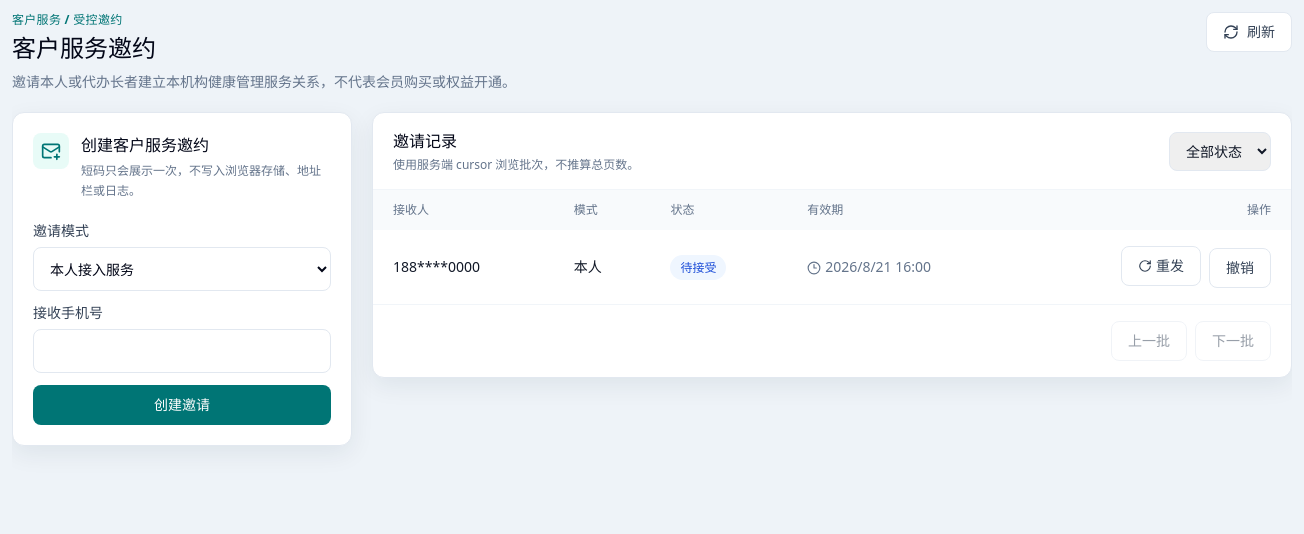
Test: 机构客户服务邀约与服务接入 › 撤销发生 409 时只刷新且不自动重放 mutation
Expected: the text "188****0000" is shown, [373,230,554,304]
Click the button "撤销". click: point(1240, 268)
box: [1209,248,1271,288]
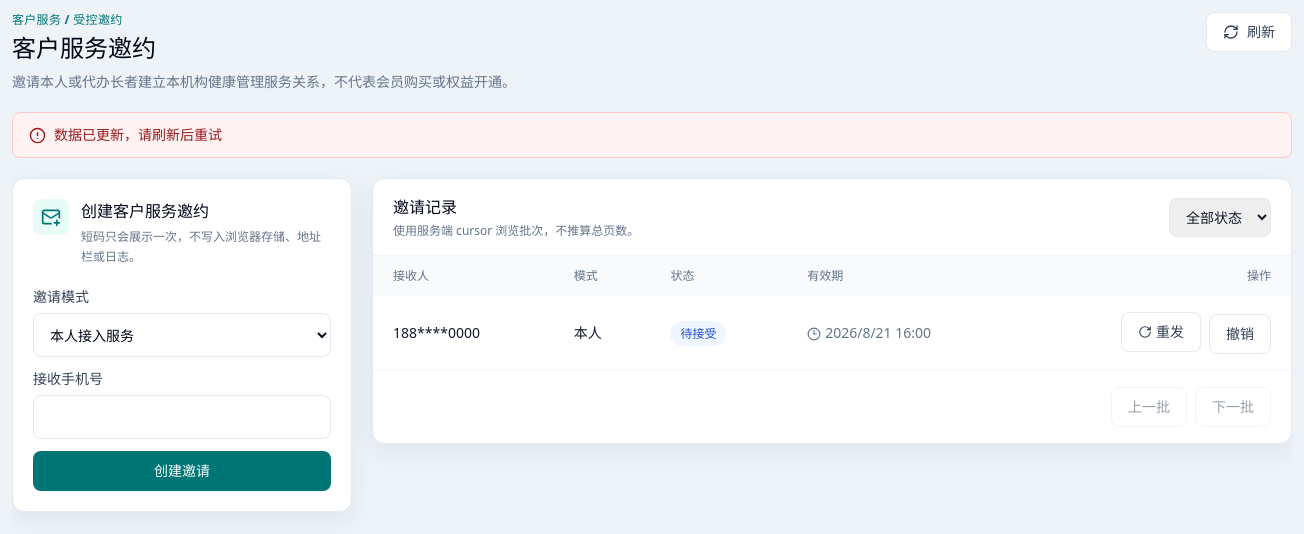
Now the text "数据已更新，请刷新后重试" is shown, box [54,125,222,145]
